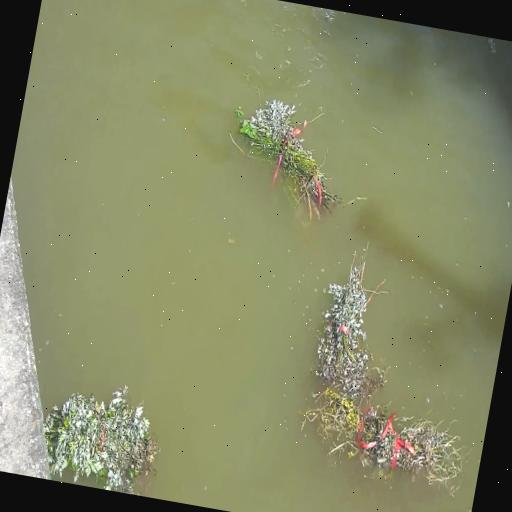twig: (211, 0, 379, 231), (287, 370, 472, 503), (297, 230, 408, 404), (34, 372, 168, 496)
